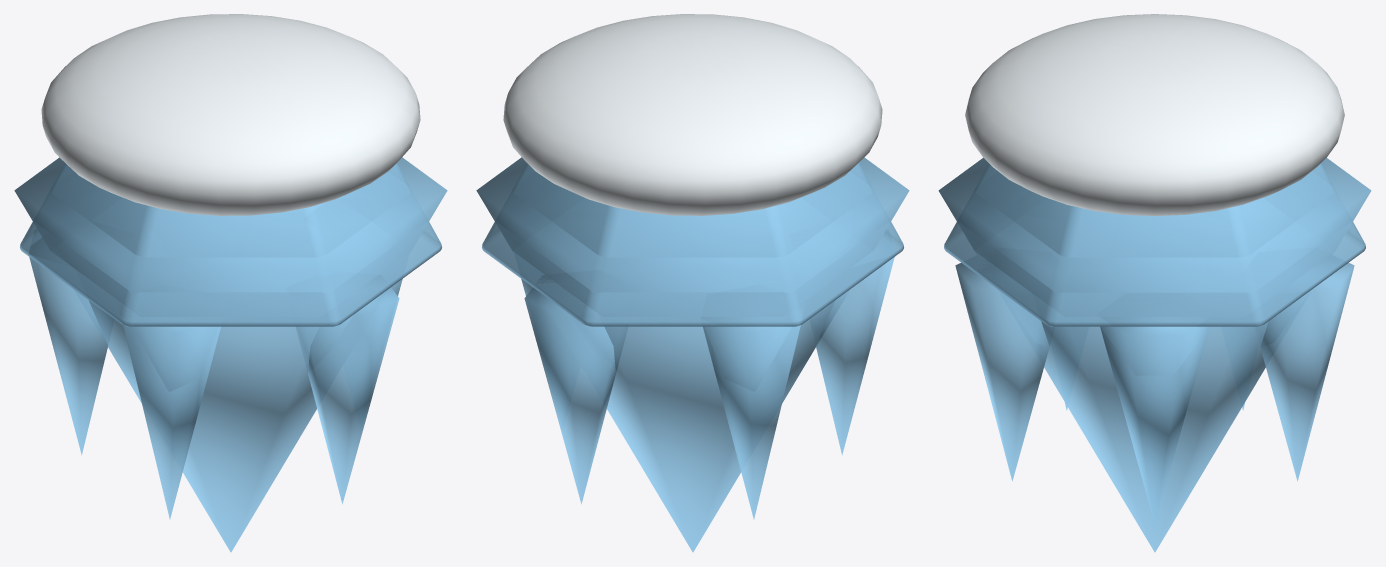
The model's file is es-ayun.glb.
3 views of the same model, side by side, from view 1: azimuth 30°, elevation 25°; view 2: azimuth 150°, elevation 25°; view 3: azimuth 270°, elevation 25° (orthographic).
Parts seen in each view (by area): view 1: Cone, Sphere, Cone.001, Cone.006, Cone.005, Cone.004; view 2: Cone, Sphere, Cone.001, Cone.004, Cone.003, Cone.005; view 3: Cone, Sphere, Cone.001, Cone.002, Cone.003, Cone.006.
Part boxes in pixels (x1,y1,x2,y2): Cone: (14, 157, 447, 552); Sphere: (41, 14, 420, 215); Cone.001: (20, 163, 441, 326); Cone.006: (296, 275, 399, 504); Cone.005: (122, 314, 220, 519); Cone.004: (29, 238, 113, 455); Cone: (476, 157, 909, 552); Sphere: (503, 14, 882, 215); Cone.001: (482, 163, 903, 326); Cone.004: (701, 300, 806, 519); Cone.003: (524, 275, 627, 504); Cone.005: (810, 238, 894, 455); Cone: (938, 158, 1371, 552); Sphere: (965, 14, 1344, 215); Cone.001: (944, 163, 1365, 326); Cone.002: (1100, 317, 1209, 524); Cone.003: (1255, 255, 1354, 481); Cone.006: (955, 262, 1054, 481).
Size of the model in its own units: 2.34 by 3.31 by 2.6.
